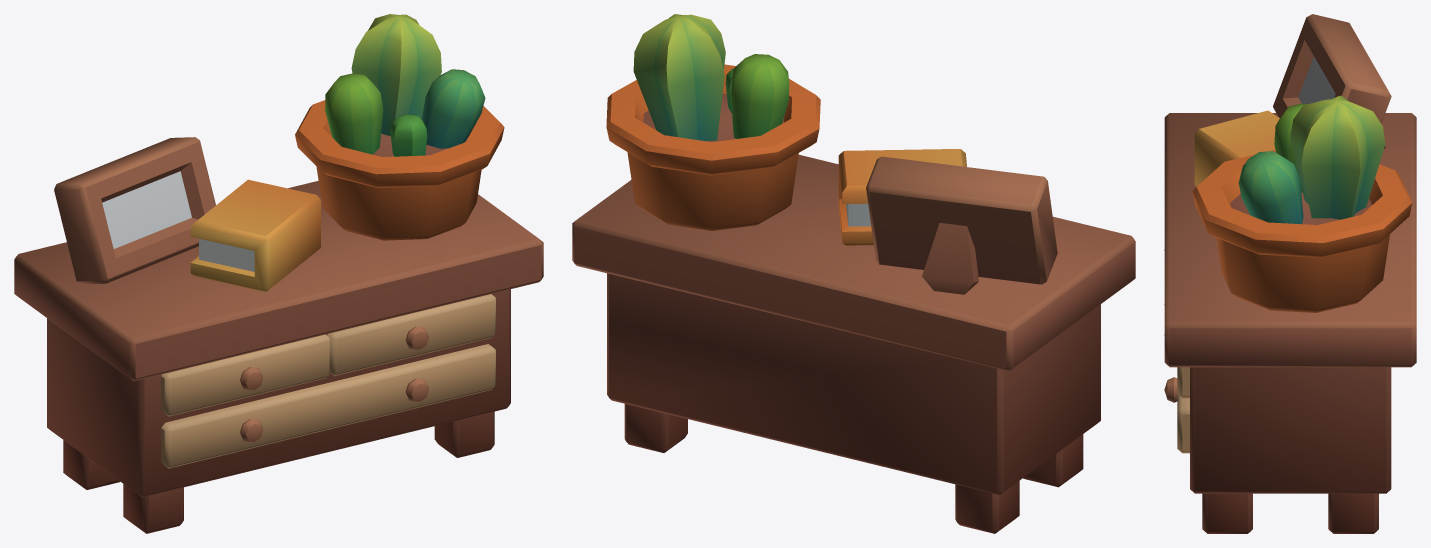
Rendered from K_cabinet_medium_decorated.glb.
3 views of the same model, side by side, from view 1: azimuth 30°, elevation 25°; view 2: azimuth 150°, elevation 25°; view 3: azimuth 270°, elevation 25° (orthographic). The views are drawn at different scales.
Parts seen in each view (by area): view 1: cabinet_medium_decorated; view 2: cabinet_medium_decorated; view 3: cabinet_medium_decorated.
Boxes of the visible parts, x1,y1,x2,y2 form: cabinet_medium_decorated: (14, 14, 543, 533); cabinet_medium_decorated: (572, 14, 1135, 533); cabinet_medium_decorated: (1164, 14, 1416, 533).
Size of the model in its own units: 2.04 by 1.83 by 1.
